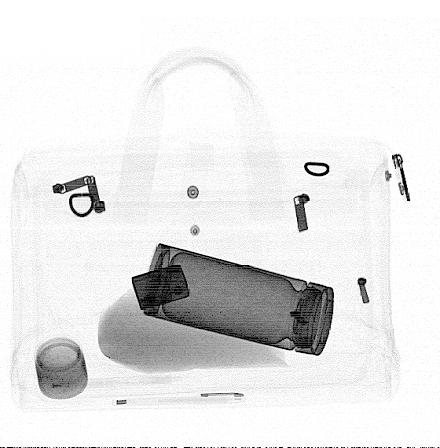Lighter: (131, 264, 191, 311)
